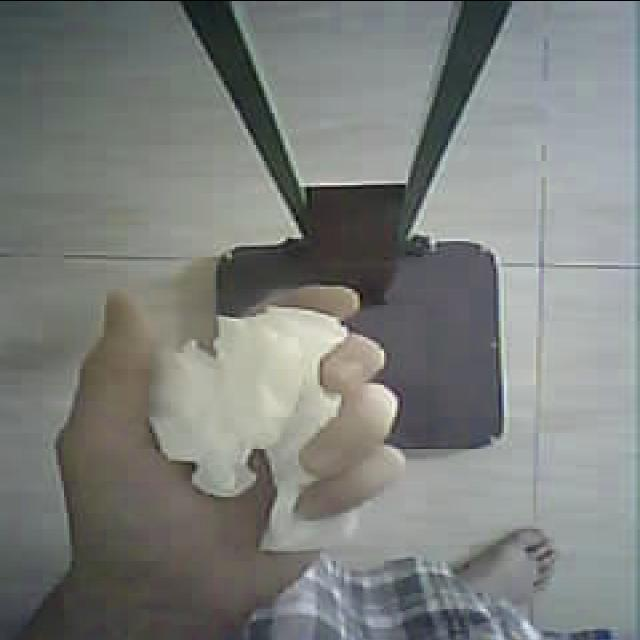Paper: (118, 262, 400, 564)
